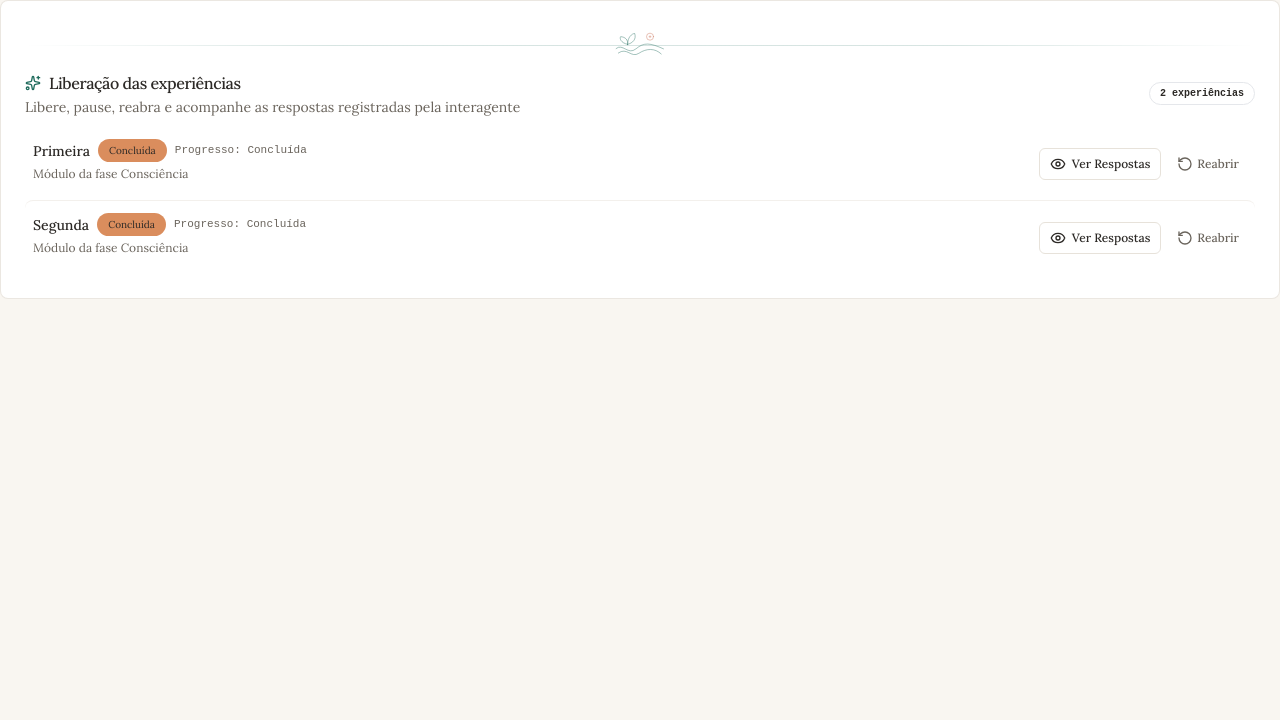
Scenario: Leitura profissional de respostas compartilhadas › exibe apenas finalizadas compartilhadas da matrícula atual e oculta texto sem consentimento
Click the button "Ver Respostas" in the row of "Primeira".
click(1100, 164)  # box [1039, 148, 1161, 180]
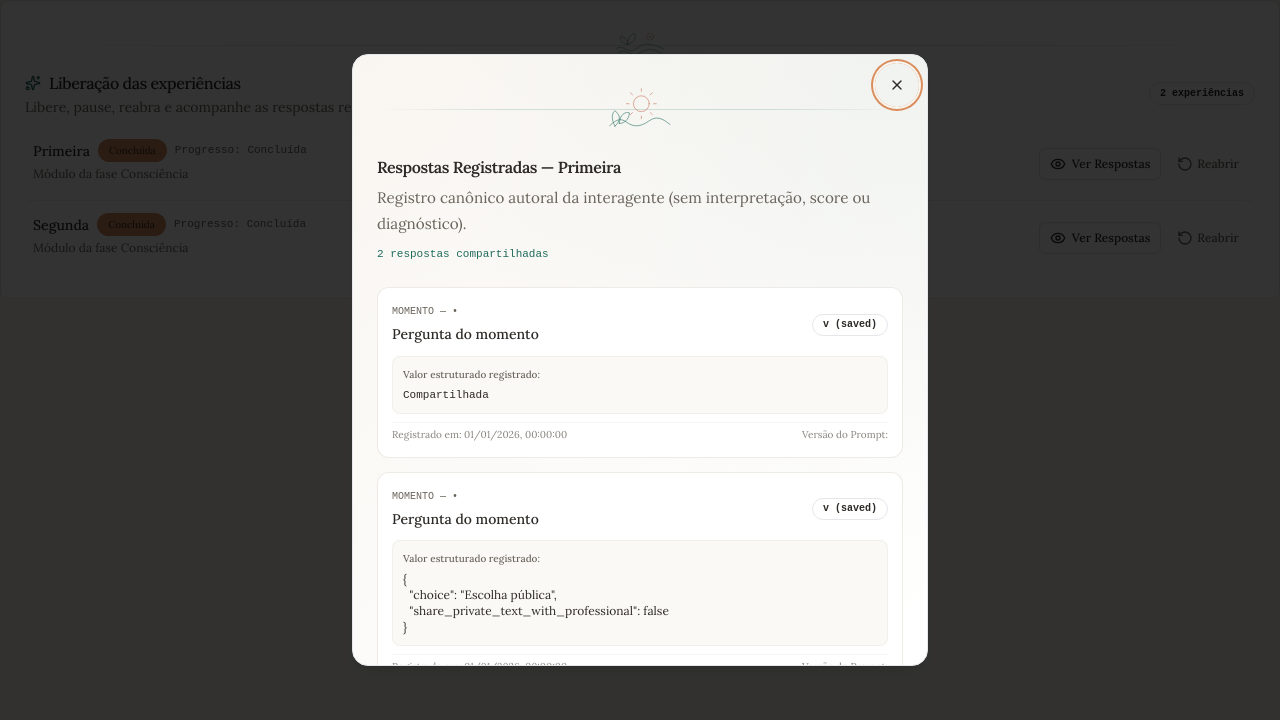
Expected: the text "Compartilhada" is shown, [403, 389, 489, 401]
Expected: the text "Escolha pública" is shown, [403, 571, 669, 634]
